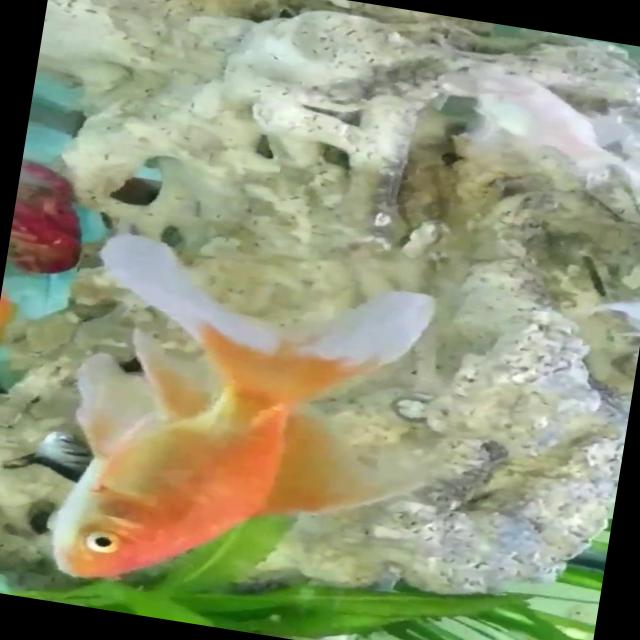GoldFish: (5, 204, 490, 640)
